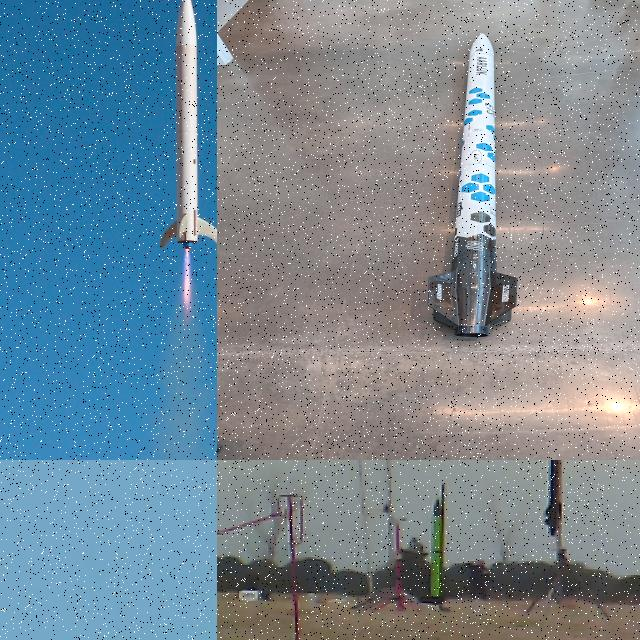Rocket: (427, 32, 518, 338), (158, 0, 217, 250), (543, 460, 563, 536), (430, 498, 442, 598)
